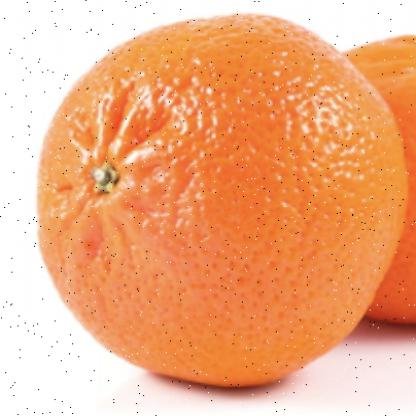orange: (32, 12, 405, 391)
